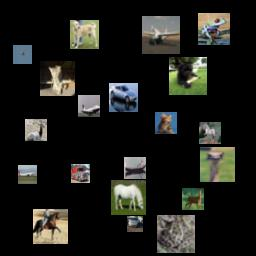airplane: (142, 16, 180, 54), (78, 95, 100, 117), (18, 165, 37, 184), (13, 45, 32, 64)
automobile: (109, 83, 138, 112), (127, 216, 143, 232)
bird: (200, 147, 235, 182)
cat: (40, 61, 75, 96), (155, 112, 177, 134)
deer: (25, 119, 47, 141), (182, 188, 204, 210)
dog: (169, 57, 207, 95), (70, 20, 99, 49)
frog: (157, 215, 195, 253), (198, 13, 230, 45)
ship: (124, 157, 146, 179)
truck: (71, 164, 90, 183)
